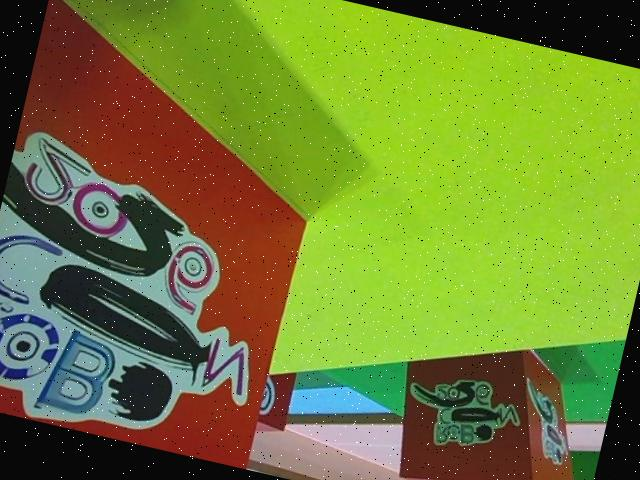R1: (0, 0, 343, 469), (378, 323, 608, 480)
